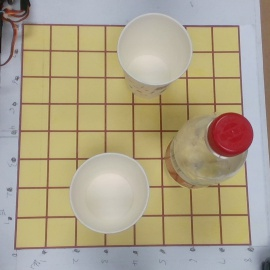bottle: (148, 111, 253, 198)
cup: (60, 150, 151, 233), (109, 13, 192, 99)
